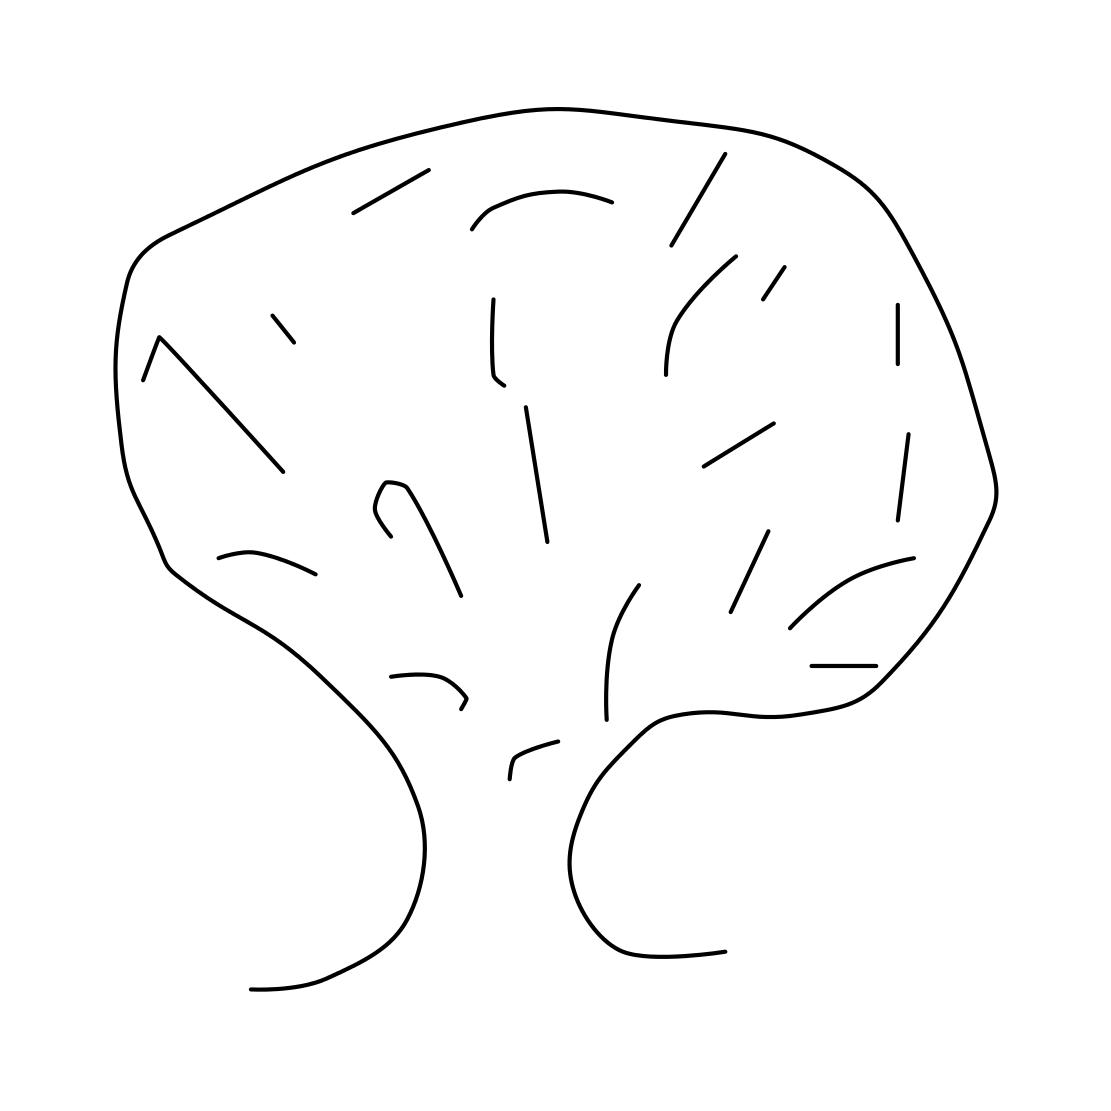Tree: (97, 87, 1010, 1026)
